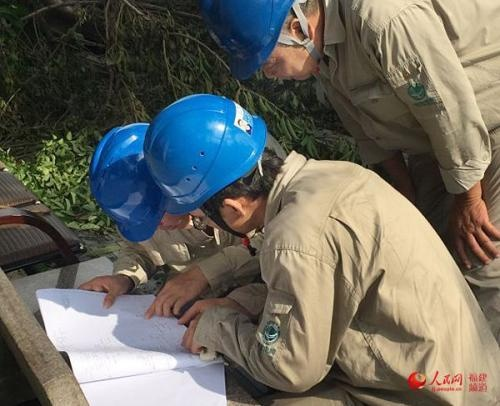blue: (145, 90, 273, 238), (90, 121, 192, 242), (202, 2, 322, 83)
